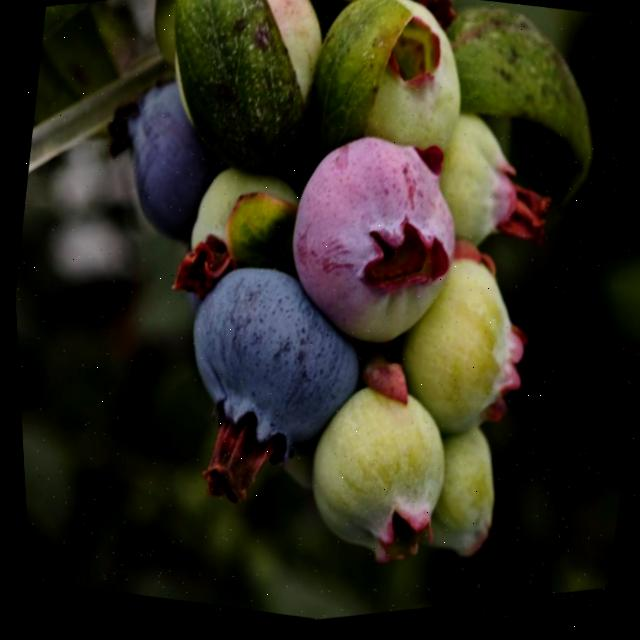Semi-RipeBlueBerry: (244, 102, 502, 387)
